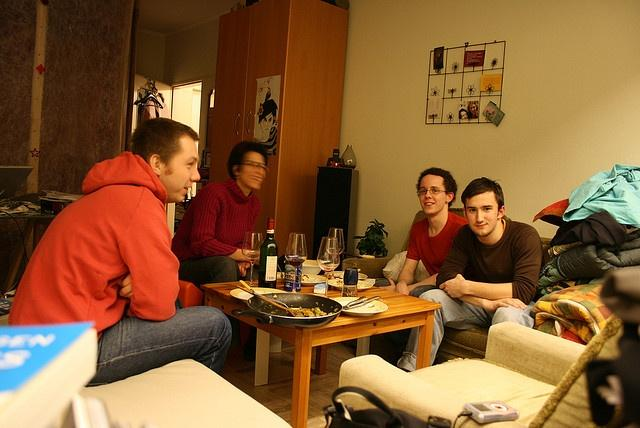Lemari: (207, 0, 289, 184)
Meja: (199, 276, 441, 370)
